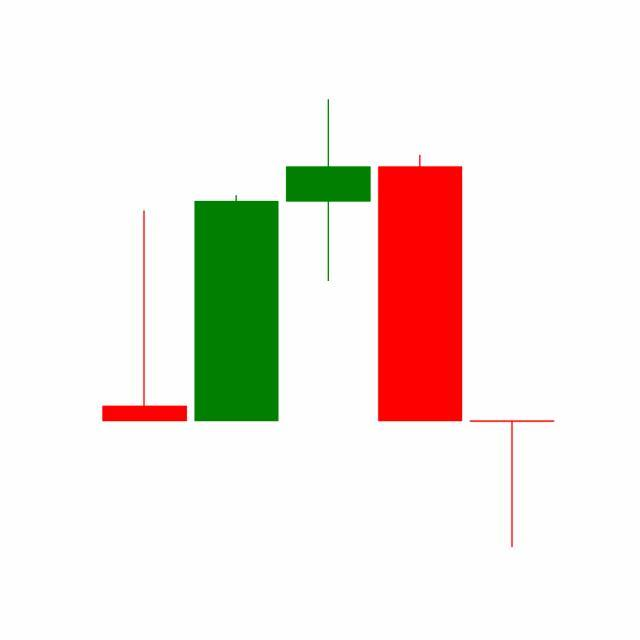Dragonfly Doji: (466, 420, 559, 550)
